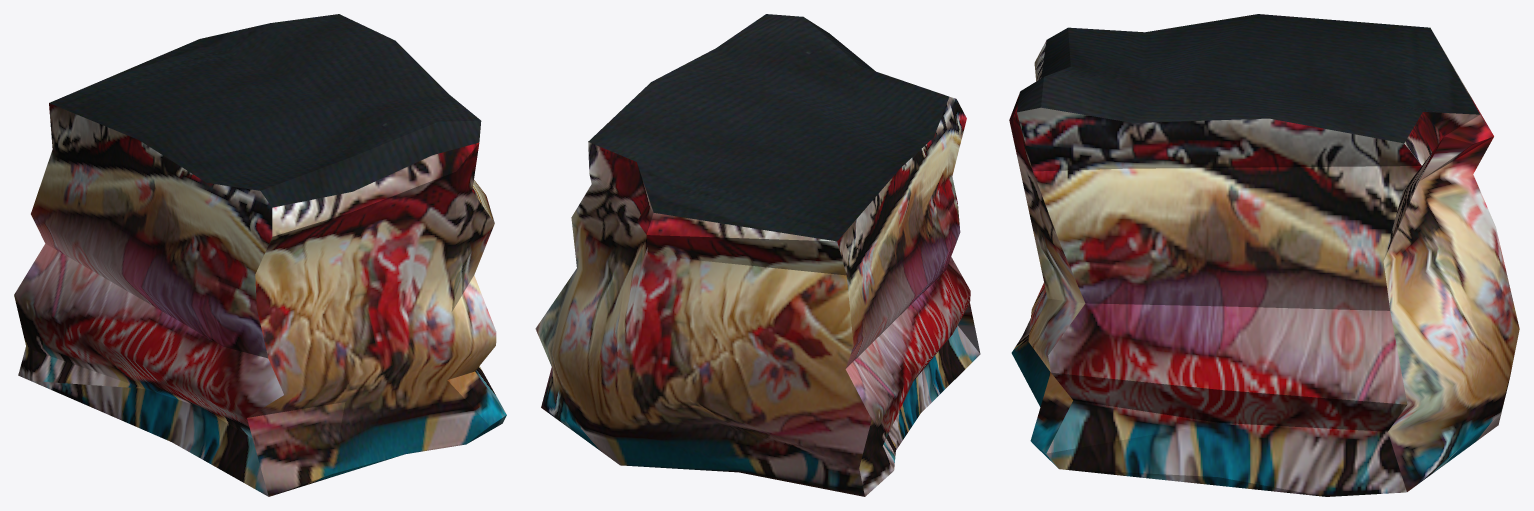
Rendered from shirt_pile-12.FBX.
3 renders of one model, left to right at view 1: azimuth 30°, elevation 25°; view 2: azimuth 150°, elevation 25°; view 3: azimuth 270°, elevation 25°, orthographic. The views are drawn at different scales.
Parts seen in each view (by area): view 1: Object07; view 2: Object07; view 3: Object07.
Boxes of the visible parts, box(x1,y1,x2,y2) form: Object07: box(14, 14, 506, 496); Object07: box(535, 14, 980, 496); Object07: box(1009, 14, 1519, 496).
Size of the model in its own units: 20.6 by 17.27 by 22.41.
